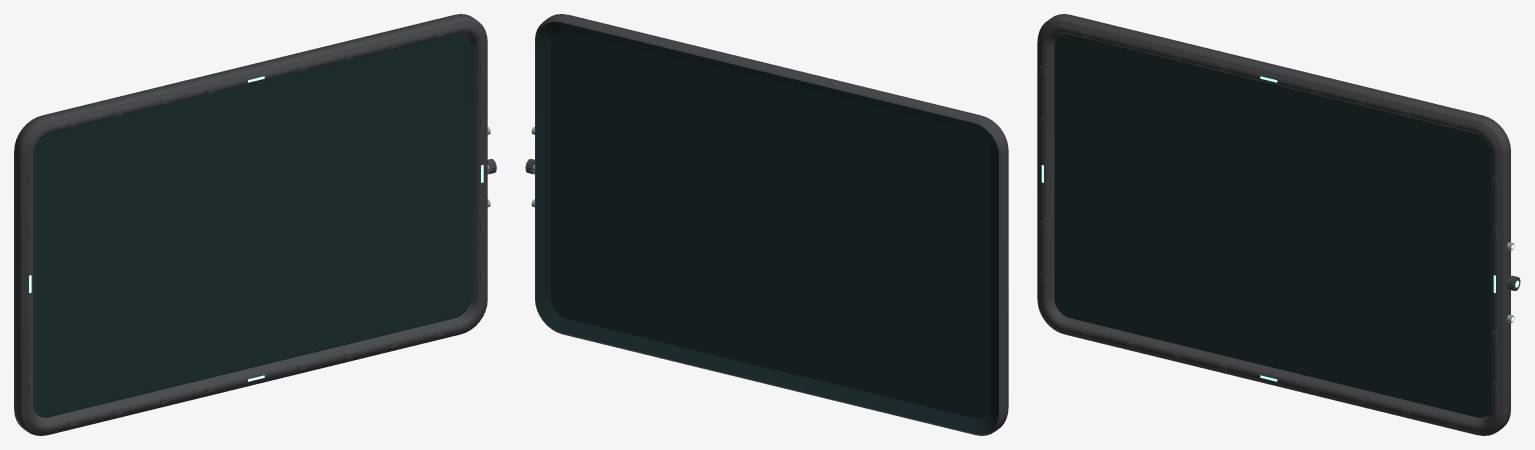
The model's file is watch_menu_frame.glb.
The picture shows the model from 3 angles, left to right: view 1: azimuth 30°, elevation 25°; view 2: azimuth 150°, elevation 25°; view 3: azimuth 330°, elevation 25°; orthographic projection.
Visible parts, largest first — view 1: Menu_Back, Menu_Case, Menu_Teeth; view 2: Menu_Back, Menu_Case; view 3: Menu_Back, Menu_Case, Menu_Teeth.
Boxes of the visible parts, x1,y1,x2,y2 form: Menu_Back: [33, 34, 470, 417]; Menu_Case: [14, 14, 487, 435]; Menu_Teeth: [28, 32, 484, 426]; Menu_Back: [536, 21, 998, 433]; Menu_Case: [535, 14, 1008, 435]; Menu_Back: [1054, 34, 1491, 417]; Menu_Case: [1037, 14, 1510, 435]; Menu_Teeth: [1040, 32, 1496, 426].
Size of the model in its own units: 0.6886 by 0.4369 by 0.0254.
